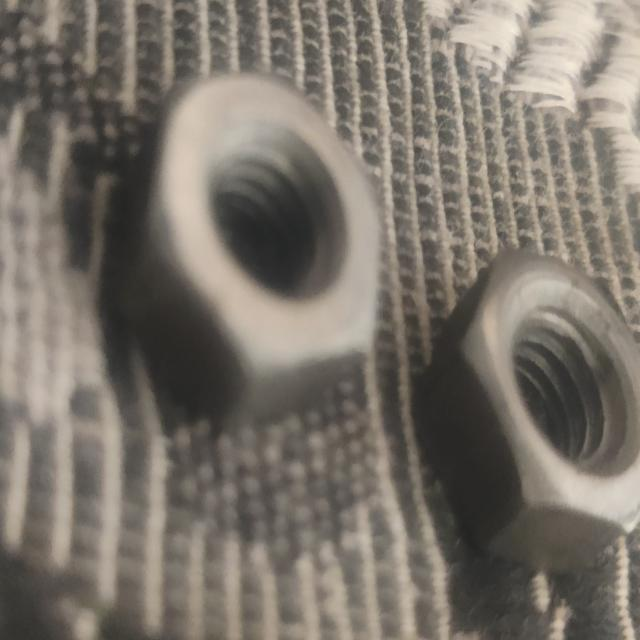disinfected nut: (122, 77, 380, 423), (418, 250, 640, 573)
